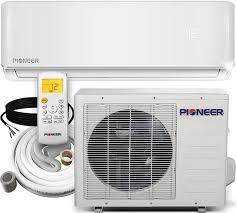ac: (1, 1, 237, 82)
